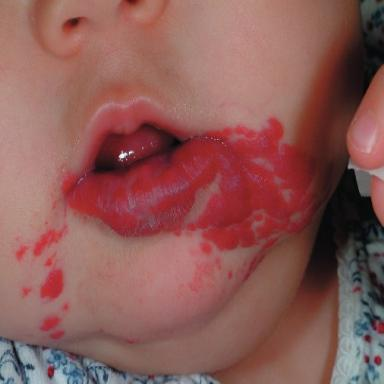Hemangiome: (67, 118, 318, 250), (34, 226, 66, 256), (41, 269, 63, 299), (40, 317, 60, 331), (16, 245, 29, 261), (50, 330, 65, 340), (45, 253, 55, 266)
